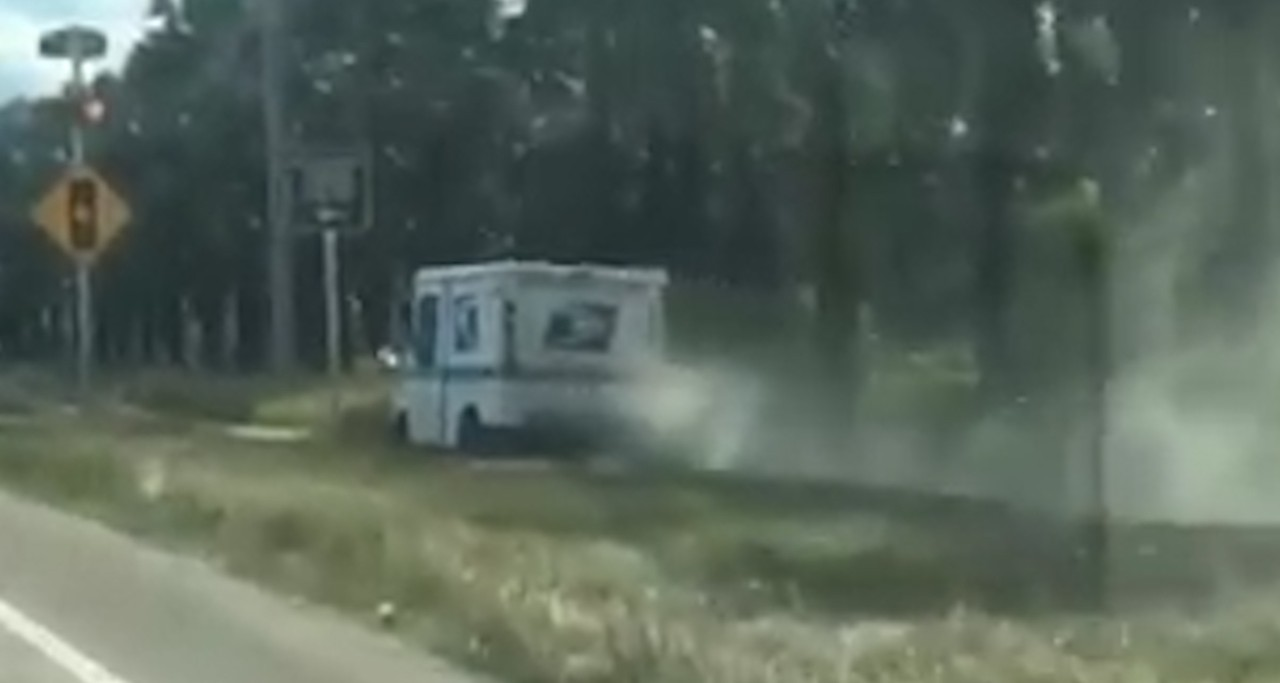truck: (376, 259, 698, 458)
